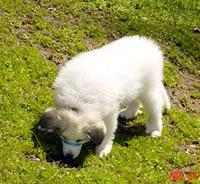Great_Pyrenees: (42, 32, 172, 158)
